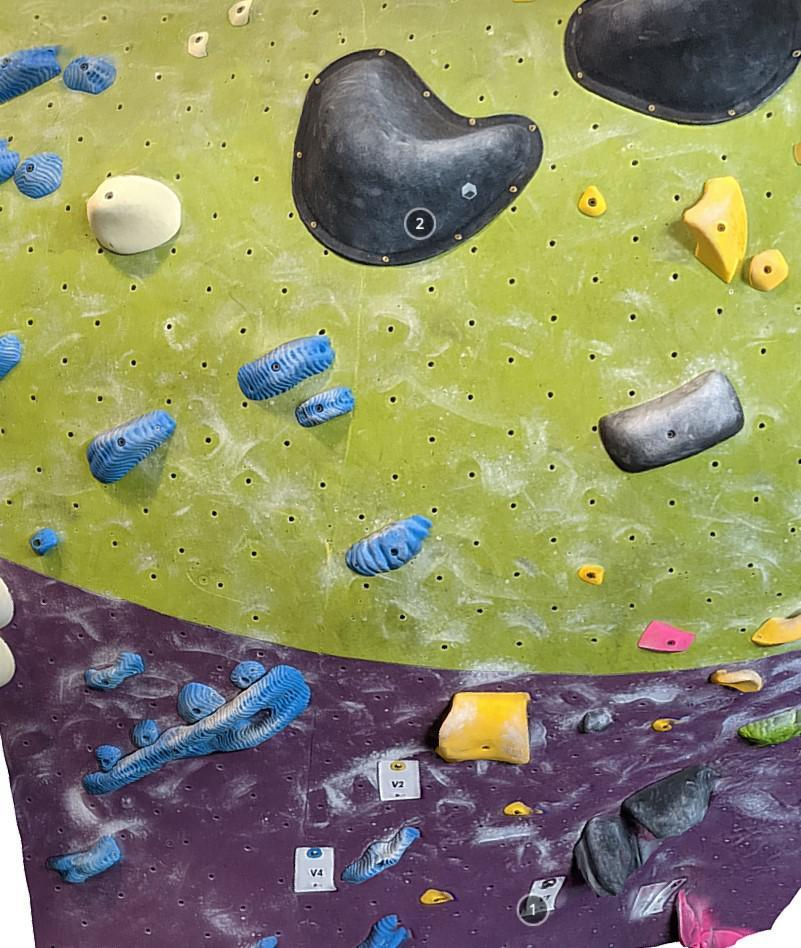hold: (292, 49, 543, 266), (564, 0, 801, 125), (83, 665, 312, 794), (598, 370, 744, 473), (87, 174, 182, 254), (622, 766, 720, 839), (436, 691, 531, 765), (683, 175, 748, 283), (87, 410, 176, 483), (237, 336, 336, 401), (574, 814, 642, 897), (345, 514, 433, 576), (342, 827, 422, 884), (675, 889, 743, 948), (47, 835, 121, 885), (0, 46, 62, 104), (738, 707, 801, 747), (84, 651, 145, 691), (295, 387, 355, 427), (14, 152, 63, 198), (63, 55, 117, 94), (355, 913, 413, 948), (178, 682, 226, 724), (638, 620, 696, 653), (749, 248, 788, 291), (752, 612, 801, 646), (709, 669, 764, 692), (230, 660, 266, 689), (0, 334, 21, 381), (0, 138, 20, 184), (578, 185, 606, 215), (0, 636, 16, 688), (578, 710, 612, 734), (131, 718, 159, 747), (30, 528, 57, 555), (0, 577, 14, 629), (95, 744, 121, 772), (228, 0, 253, 26), (188, 31, 210, 58), (578, 565, 606, 585), (421, 888, 455, 904), (504, 800, 532, 816), (252, 934, 278, 948), (652, 717, 673, 732), (793, 141, 801, 164)
